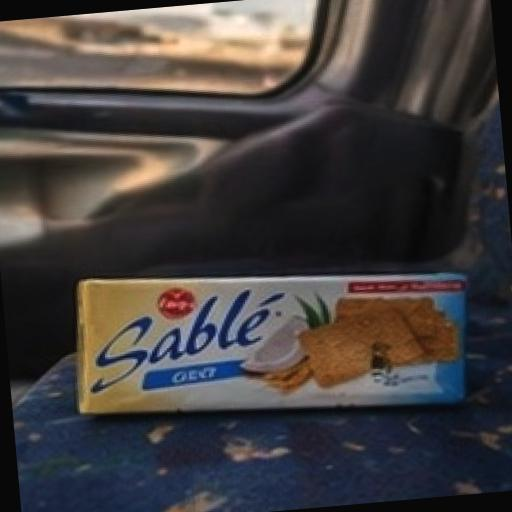sabl: (33, 180, 512, 497)
